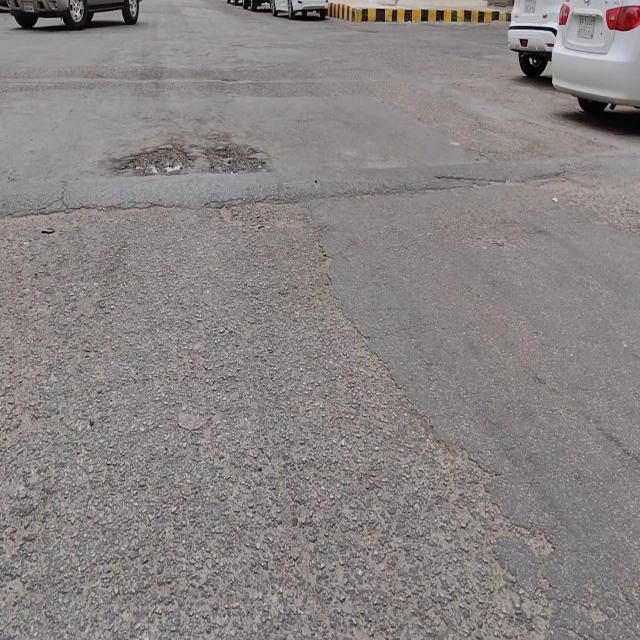Potholes: (119, 144, 189, 178), (202, 140, 265, 171)
